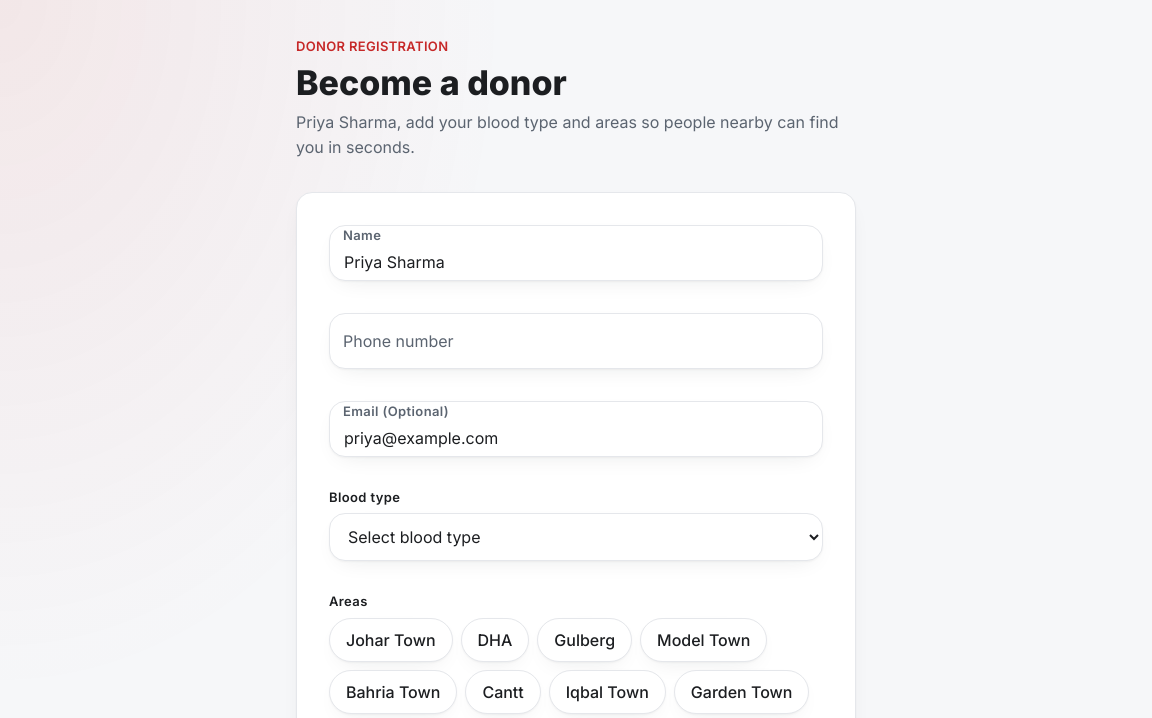
Donor Registration screen › shows an inline error when the last selected area is deselected, leaving none selected
Click the checkbox labelled "Model Town". click: (704, 640)
box: [640, 618, 767, 662]
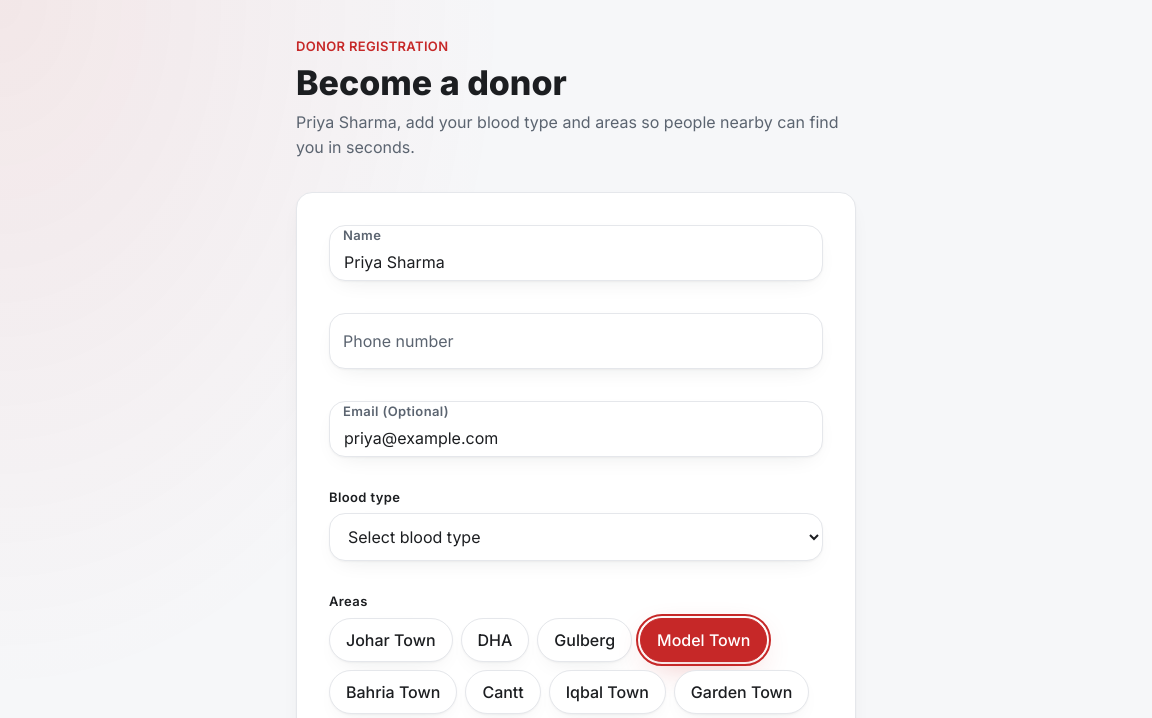
Click the checkbox labelled "Model Town". click: (704, 640)
box: [640, 618, 767, 662]
(page scrolled)
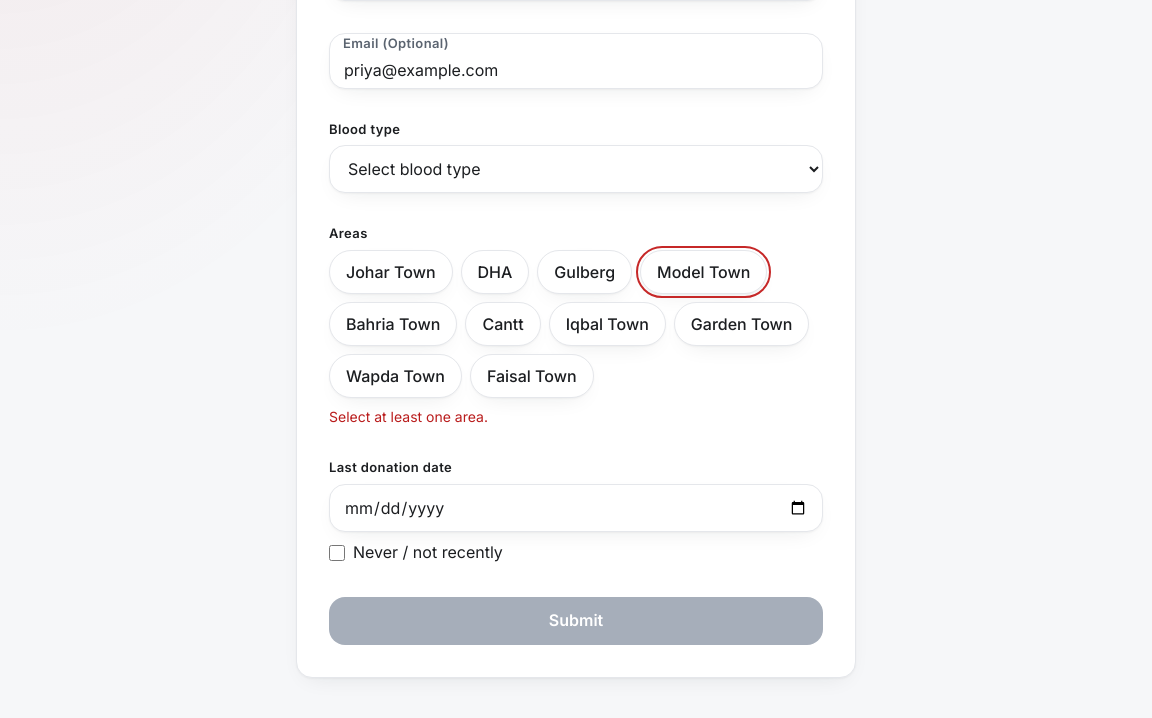
expect the message shows "Select at least one area": met, box [329, 408, 488, 425]
